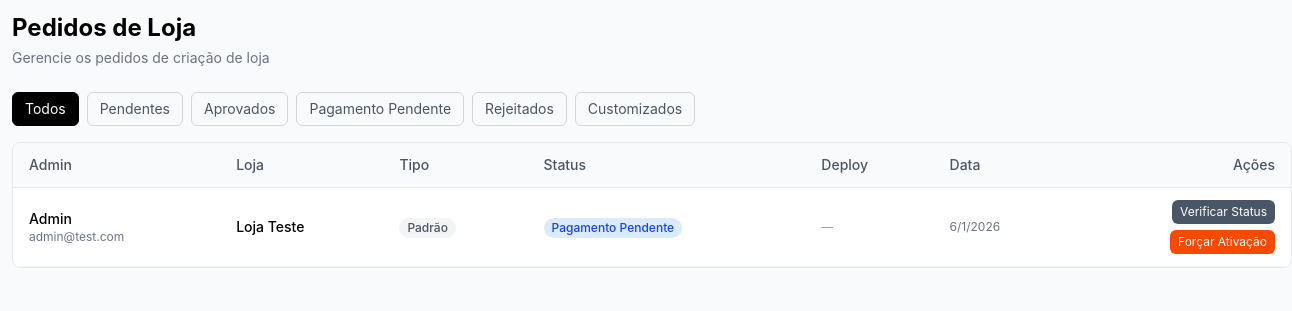
Store Requests Page › APPROVED_PENDING_PAYMENT › shows onboarding complete indicator
Click the button "Verificar Status": click(1224, 212) left=1172, top=200, right=1275, bottom=224
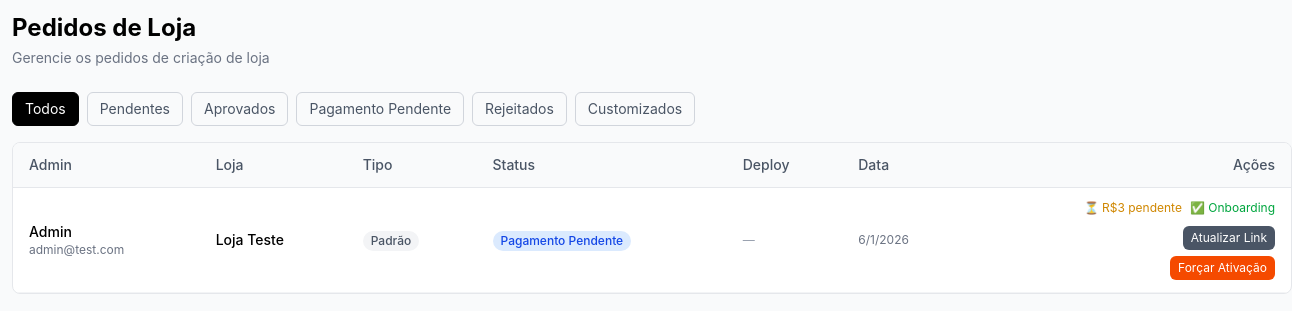
Expected: the text "✅ Onboarding" is shown, left=1190, top=200, right=1275, bottom=216
